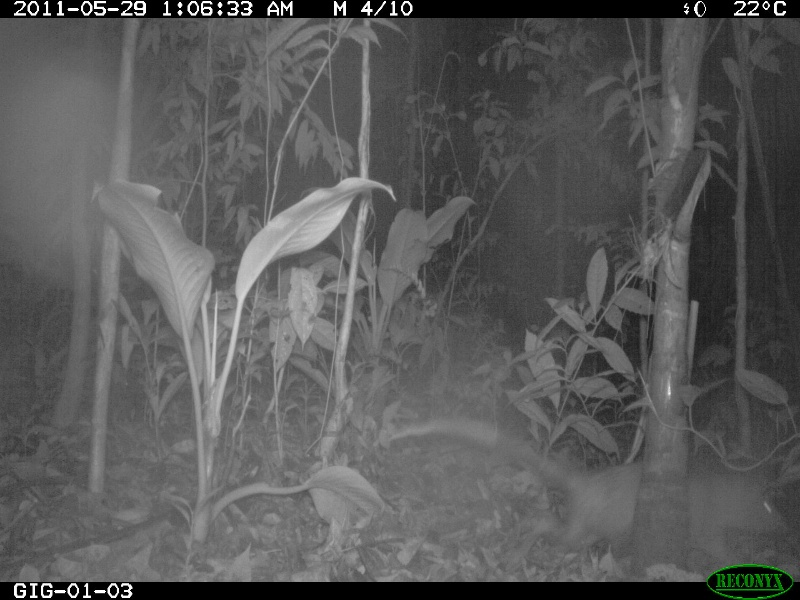opossum: (386, 415, 779, 556)
